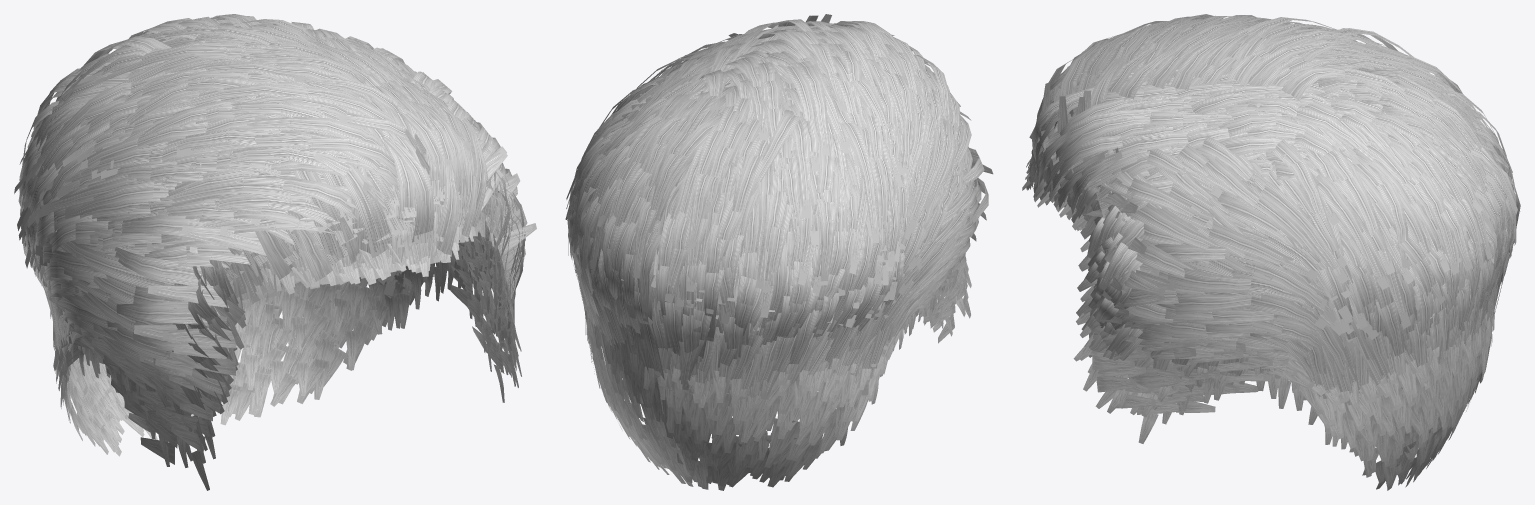
File: NC_Head_Male_Cards1.fbx
3 renders of one model, left to right at view 1: azimuth 30°, elevation 25°; view 2: azimuth 150°, elevation 25°; view 3: azimuth 270°, elevation 25°, orthographic. The views are drawn at different scales.
Visible parts, largest first — view 1: Hair_SidePart_Cards, Hair_Crop_Cards, Hair_TaperFade_Cards, Hair_Crop_CapCards, Hair_SidePart_CapCards, Hair_HighFade_Cards; view 2: Hair_SidePart_Cards, Hair_SidePart_CapCards, Hair_HighFade_Cards, Hair_Crop_Cards, Hair_TaperFade_Cards, Hair_Crop_CapCards; view 3: Hair_SidePart_Cards, Hair_TaperFade_Cards, Hair_Crop_Cards, Hair_HighFade_Cards, Hair_SidePart_CapCards, Hair_Crop_CapCards.
Boxes of the visible parts, x1,y1,x2,y2 form: Hair_SidePart_Cards: (14,14,536,464); Hair_Crop_Cards: (61,134,525,490); Hair_TaperFade_Cards: (214,73,505,325); Hair_Crop_CapCards: (64,265,520,475); Hair_SidePart_CapCards: (61,281,511,456); Hair_HighFade_Cards: (305,28,462,238); Hair_SidePart_Cards: (565,14,993,489); Hair_SidePart_CapCards: (589,267,966,490); Hair_HighFade_Cards: (599,37,783,189); Hair_Crop_Cards: (601,168,971,483); Hair_TaperFade_Cards: (699,21,832,89); Hair_Crop_CapCards: (590,265,971,483); Hair_SidePart_Cards: (1041,14,1520,490); Hair_TaperFade_Cards: (1029,69,1349,224); Hair_Crop_Cards: (1022,85,1482,483); Hair_HighFade_Cards: (1042,68,1444,203); Hair_SidePart_CapCards: (1092,354,1482,490); Hair_Crop_CapCards: (1083,357,1482,489).
Bounding box in the file's own units: 0.6911 × 0.7257 × 0.7778.
1 material, 1 textured.
